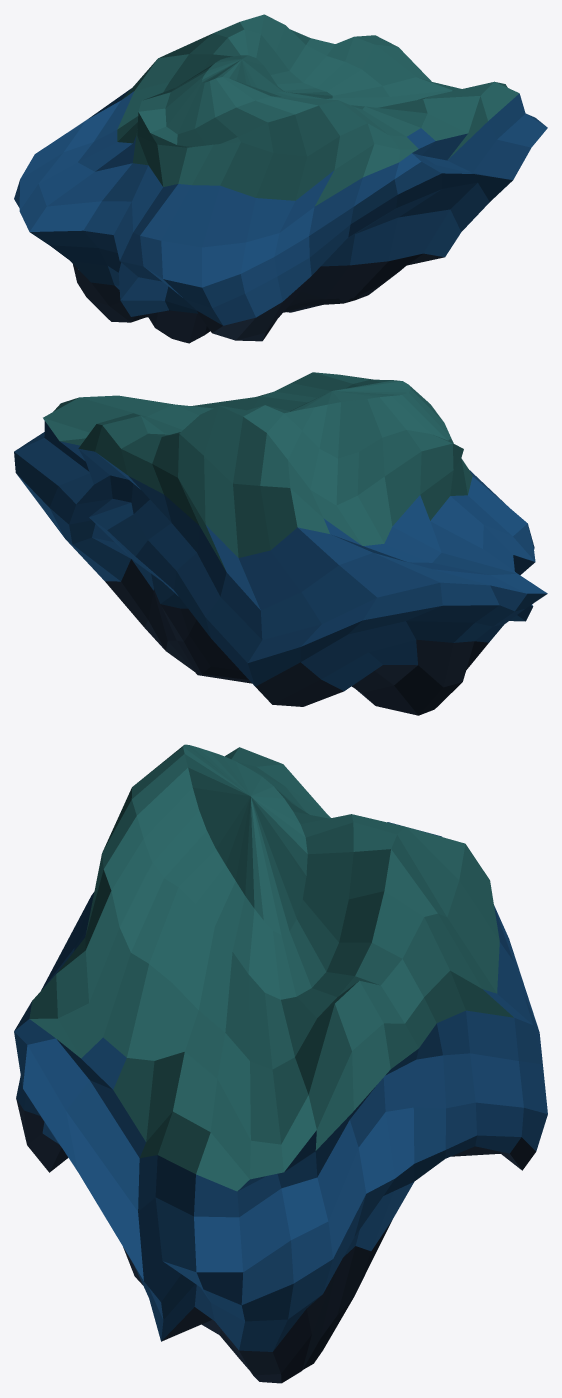
The model's file is rock004.FBX.
3 renders of one model, top to bottom at view 1: azimuth 30°, elevation 25°; view 2: azimuth 150°, elevation 25°; view 3: azimuth 270°, elevation 25°, orthographic. The views are drawn at different scales.
Visible parts, largest first — view 1: rock_004; view 2: rock_004; view 3: rock_004.
Boxes of the visible parts, bbox=[...] form: rock_004: bbox=[14, 14, 547, 343]; rock_004: bbox=[14, 372, 547, 715]; rock_004: bbox=[14, 744, 547, 1383].
Size of the model in its own units: 21.27 by 11.48 by 11.26.
